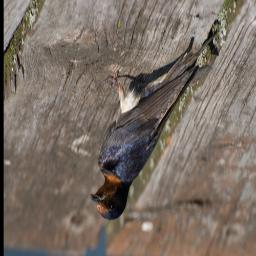Swallow: (90, 27, 220, 222)
